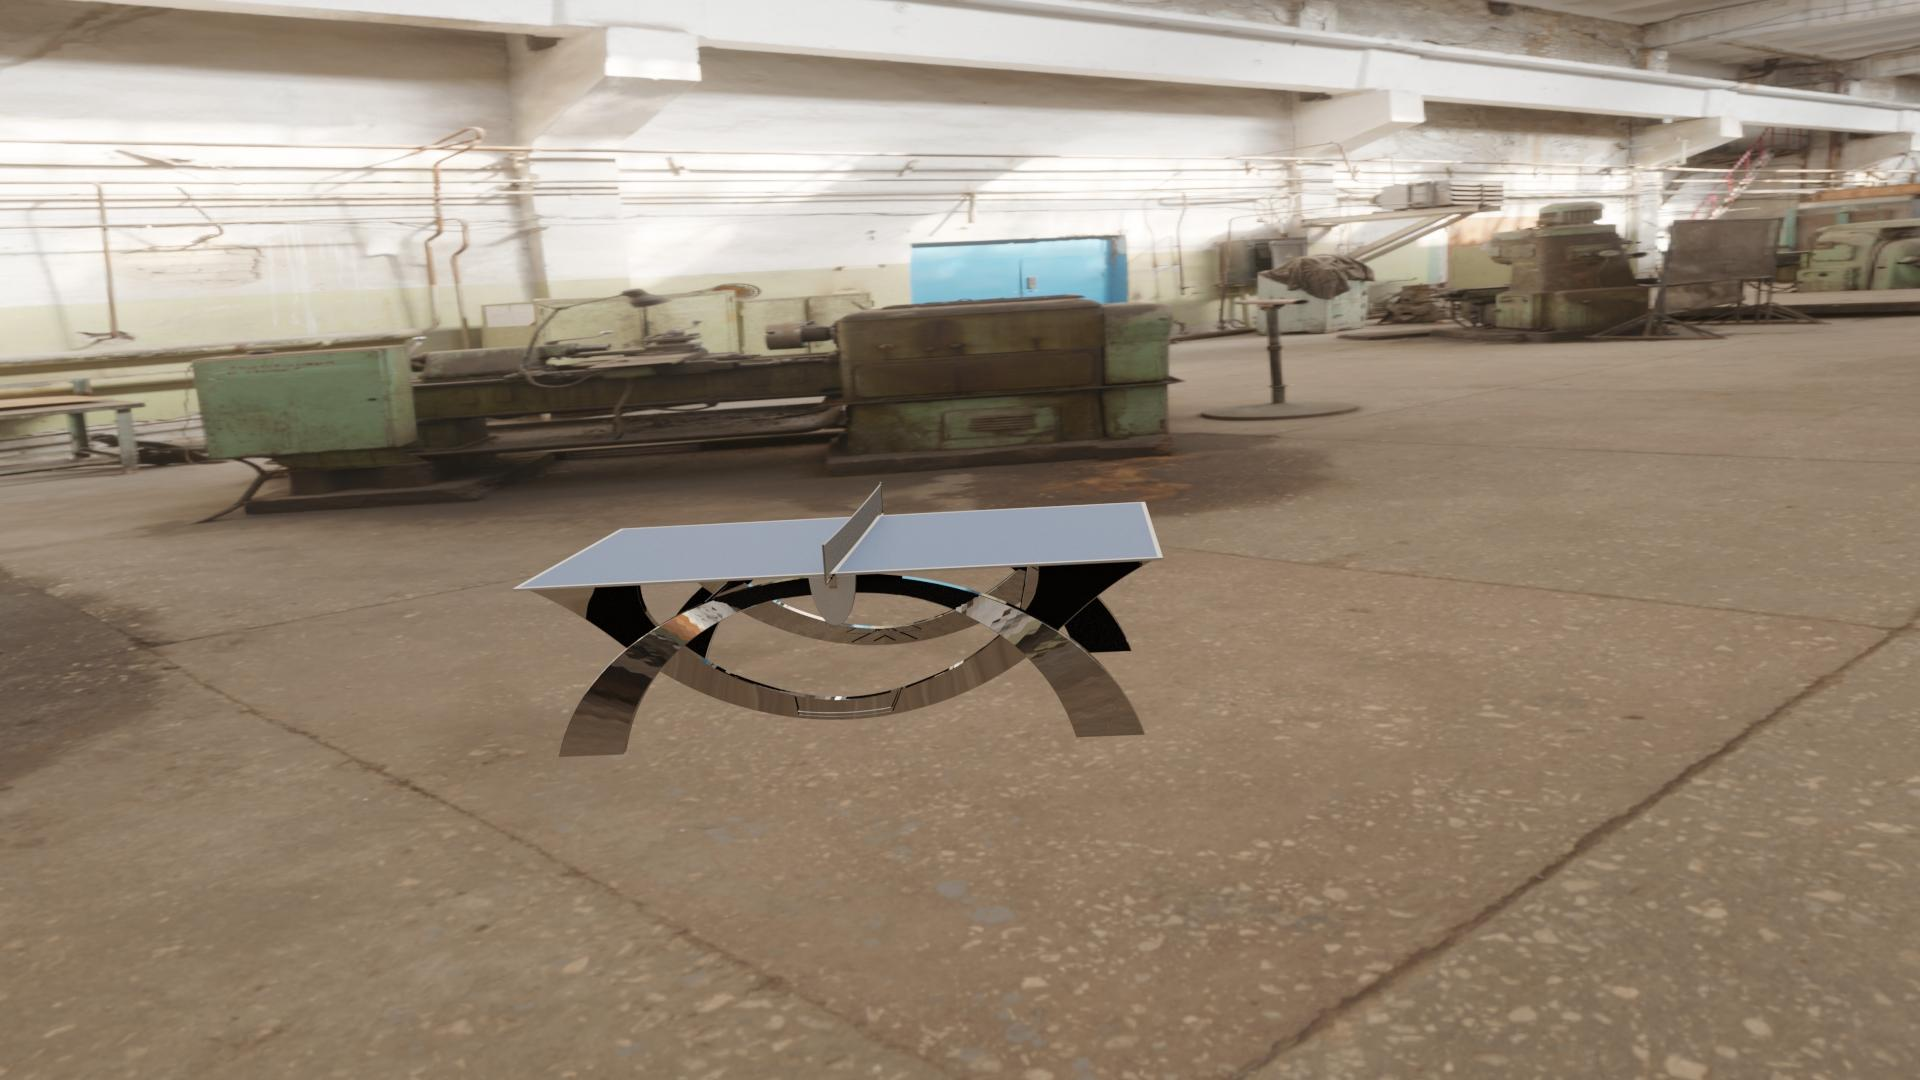table: (520, 502, 1158, 588)
